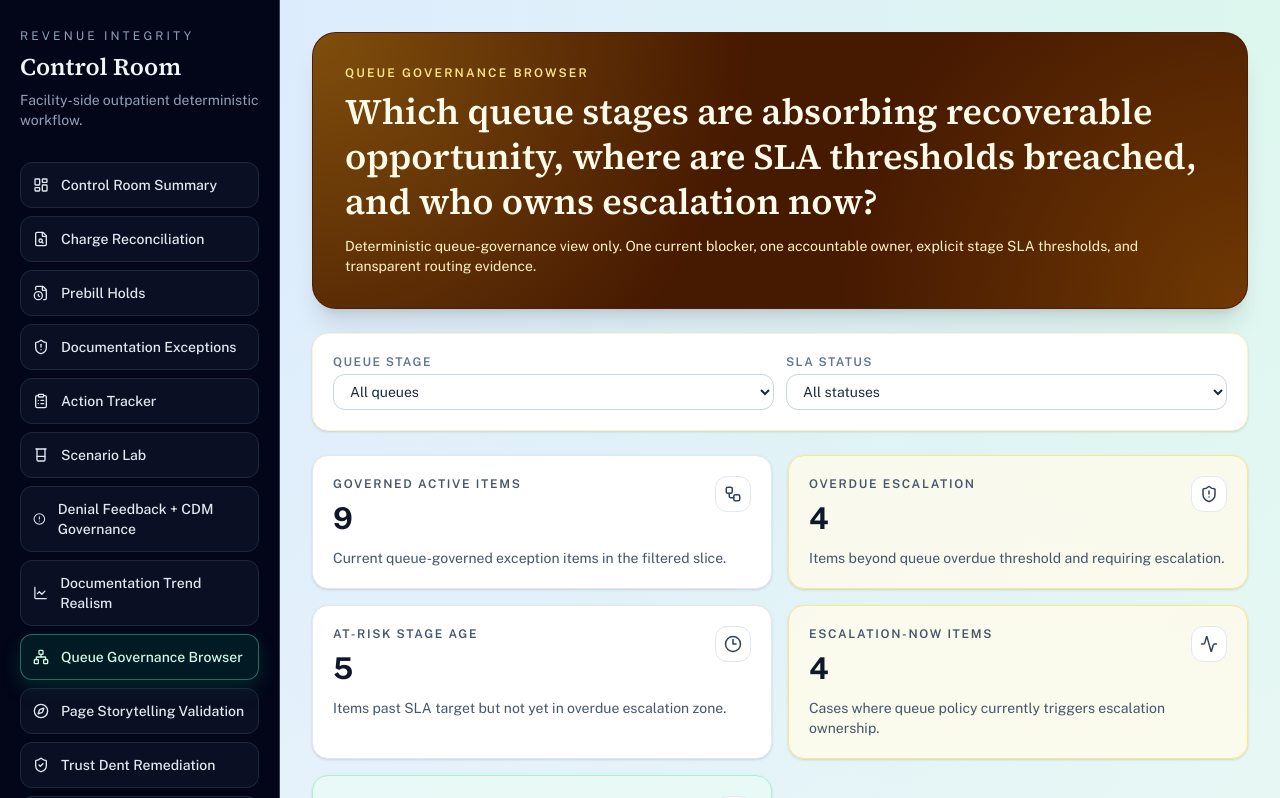
Test: Route persistence and operational slices › renders Page Storytelling Validation and shows expected cue coverage
What coordinates should you click on to do the following:
click the link "Page Storytelling Validation"
I would click on:
 (140, 711)
Its box is left=20, top=688, right=259, bottom=734.
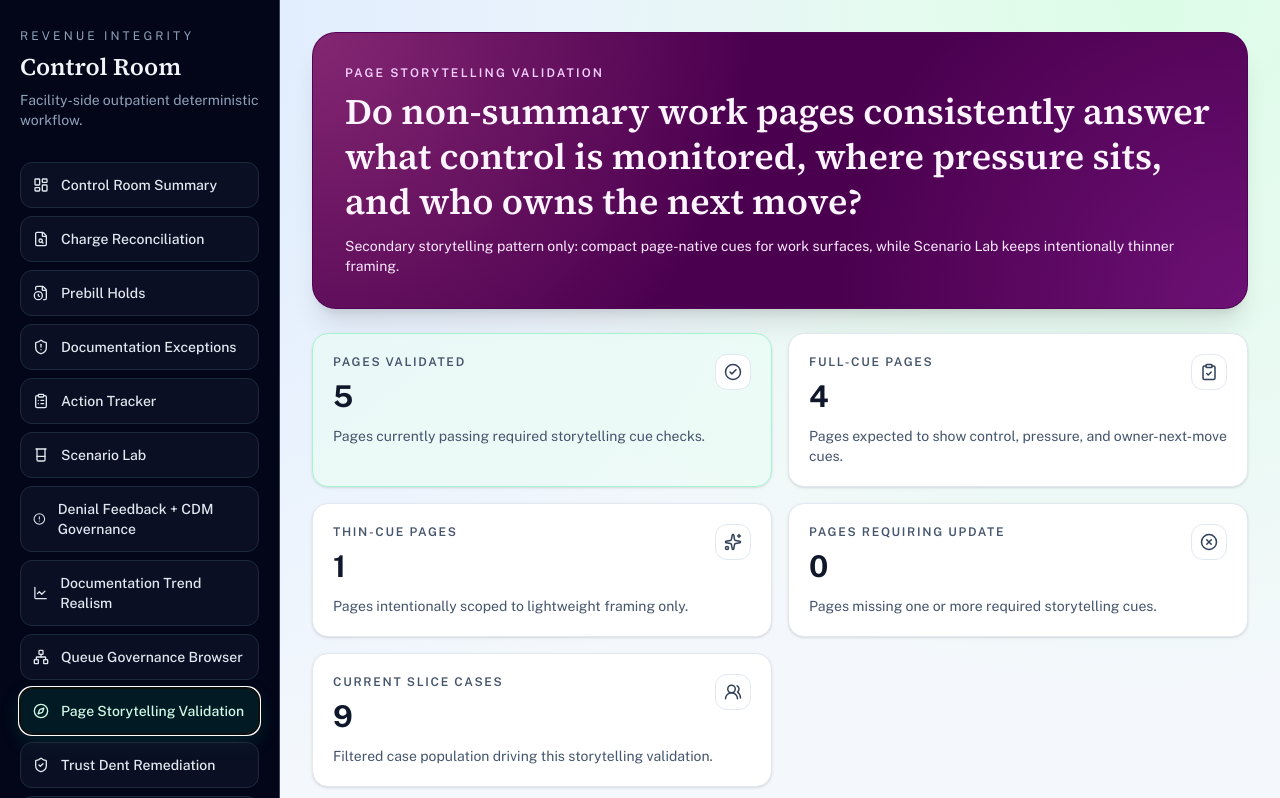
Expected: the heading "do non-summary work pages consistently answer what control is monitored, where pressure sits, and who owns the next move" is shown, left=345, top=87, right=1210, bottom=226
